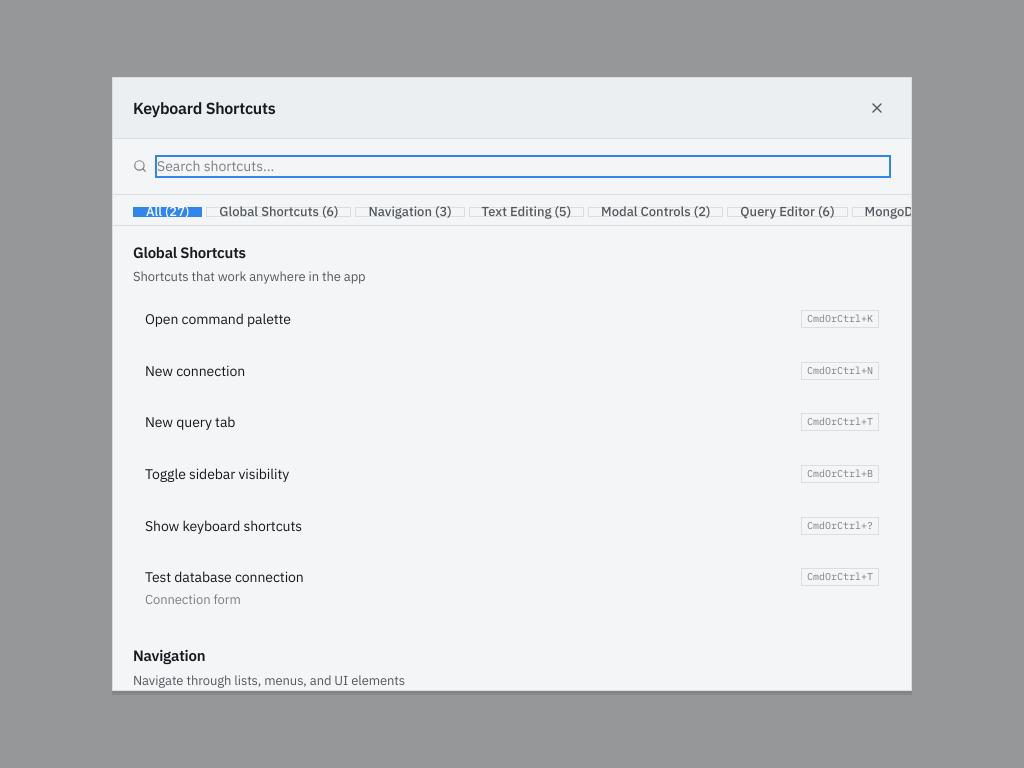
Test: ShortcutsMap component › should show empty state when no shortcuts match search
Type "nonexistent shortcut" into the field with placeholder "Search shortcuts...".
click(523, 166); type("nonexistent shortcut")  # box x1=155 y1=155 x2=891 y2=178
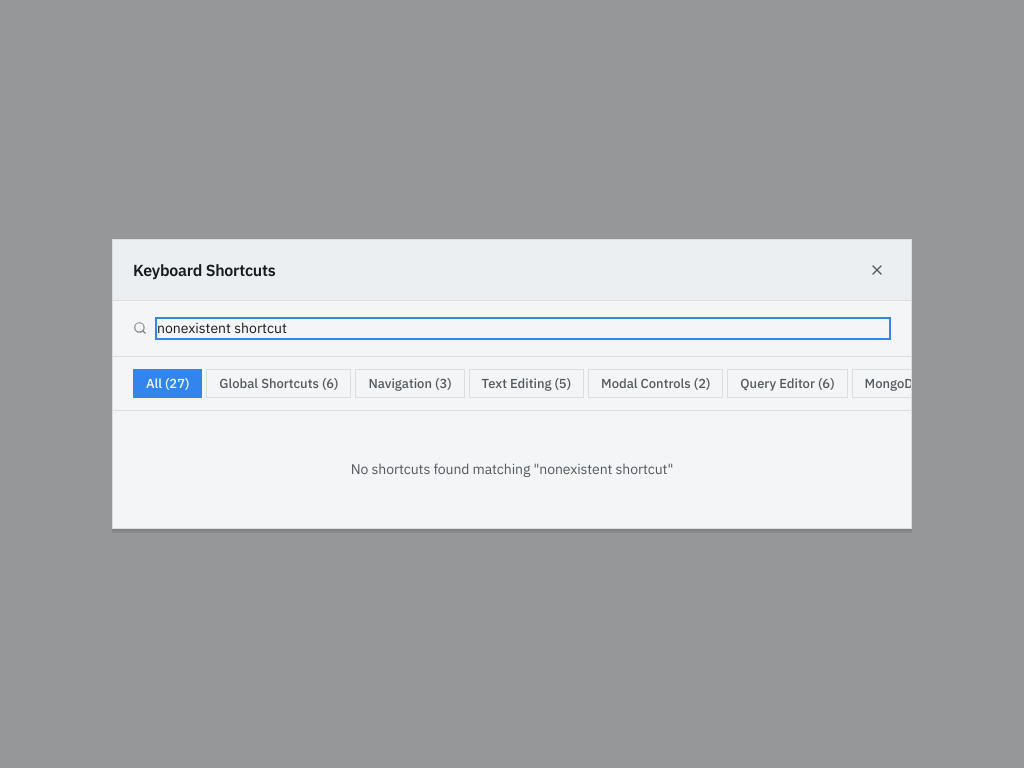
Now the text "No shortcuts found matching \"nonexistent shortcut\"" is shown, box x1=351 y1=460 x2=673 y2=478
